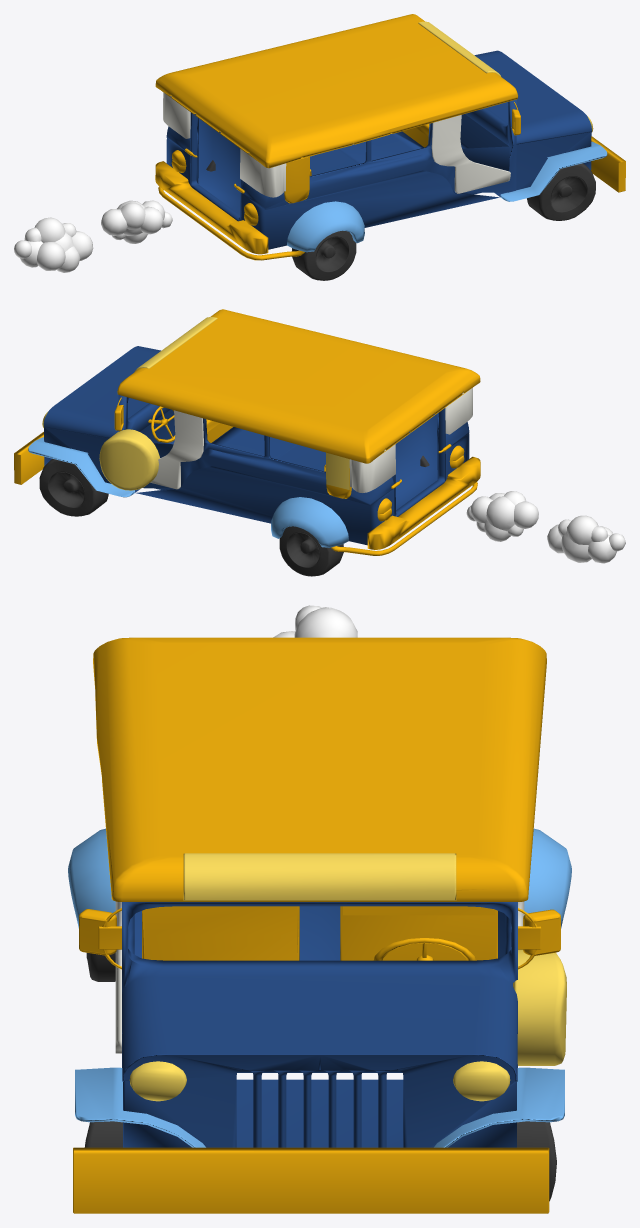
The model's file is pagiwagjeep.glb.
3 views of the same model, one above another, from view 1: azimuth 30°, elevation 25°; view 2: azimuth 150°, elevation 25°; view 3: azimuth 270°, elevation 25° (orthographic). The views are drawn at different scales.
Visible parts, largest first — view 1: Jeepney, Object_2.001, Object_2; view 2: Jeepney, Object_2.001, Object_2; view 3: Jeepney, Object_2.001.
Boxes of the visible parts, x1=… form: Jeepney: x1=155, y1=14, x2=625, y2=280; Object_2.001: x1=14, y1=217, x2=93, y2=272; Object_2: x1=101, y1=200, x2=172, y2=243; Jeepney: x1=14, y1=309, x2=480, y2=576; Object_2.001: x1=547, y1=515, x2=625, y2=563; Object_2: x1=466, y1=491, x2=538, y2=541; Jeepney: x1=68, y1=637, x2=571, y2=1213; Object_2.001: x1=273, y1=605, x2=357, y2=637.
Bounding box in the file's own units: 1.28 × 0.3296 × 0.5072.
